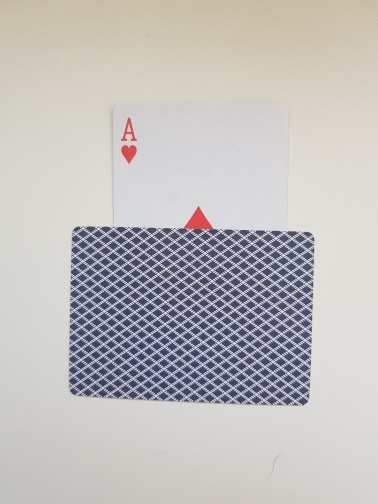ace: (110, 102, 291, 359)
